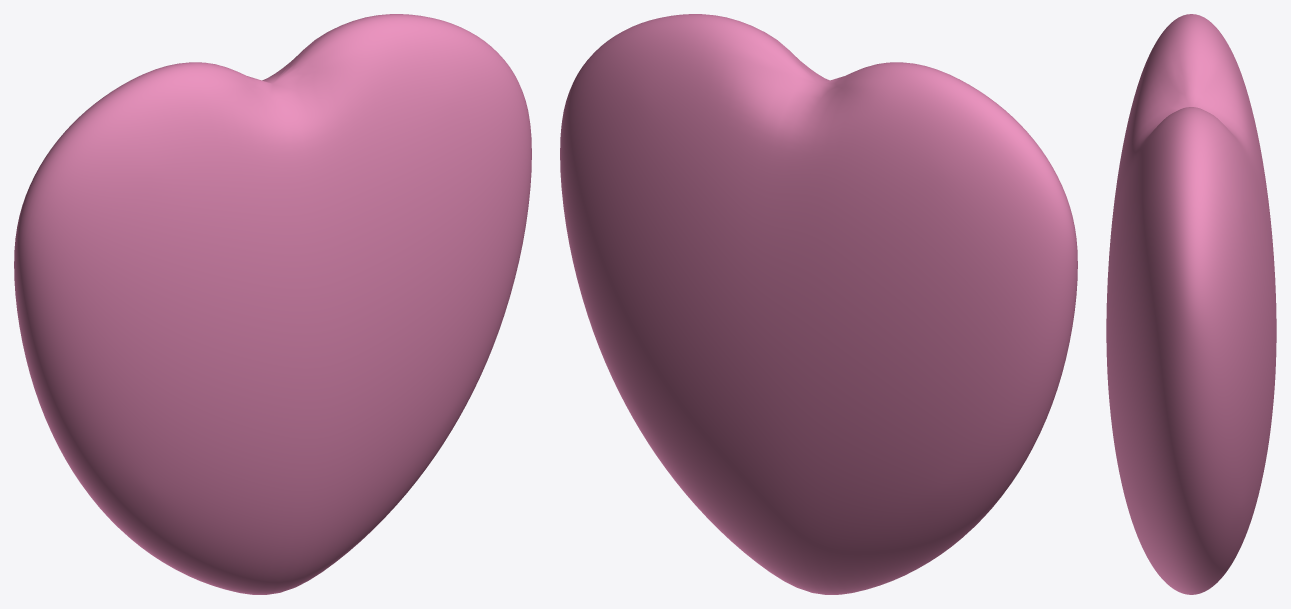
Rendered from pink.glb.
The picture shows the model from 3 angles, left to right: view 1: azimuth 30°, elevation 25°; view 2: azimuth 150°, elevation 25°; view 3: azimuth 270°, elevation 25°; orthographic projection. The views are drawn at different scales.
Parts seen in each view (by area): view 1: Cube; view 2: Cube; view 3: Cube.
Part boxes in pixels (box(x1,y1,x2,y2)): Cube: box(14, 14, 531, 594); Cube: box(560, 14, 1077, 594); Cube: box(1106, 14, 1276, 594).
Bounding box in the file's own units: 10.65 × 10.93 × 3.29.
